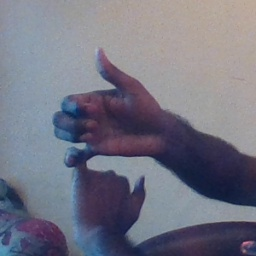S: (53, 45, 169, 226)
